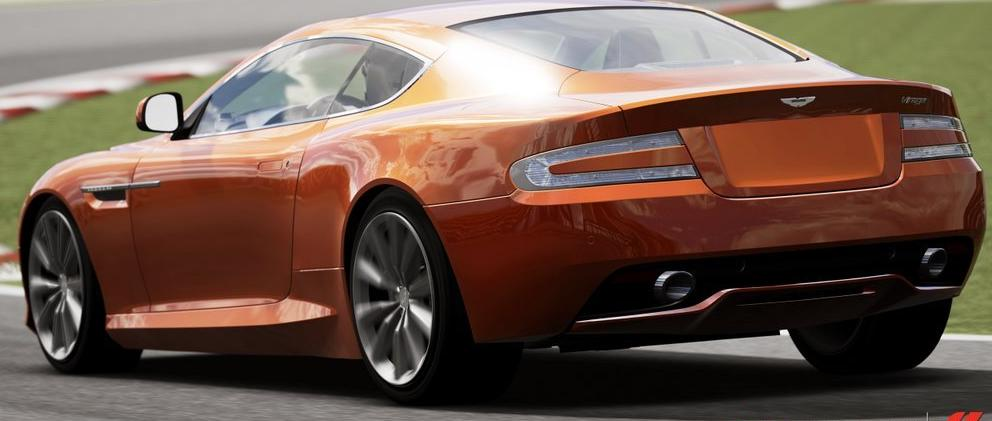back_view: (447, 98, 986, 356)
backlight: (488, 137, 709, 207)
side_glass: (158, 44, 426, 137)
